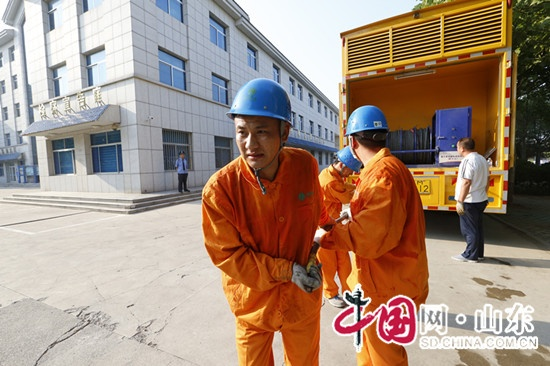blue: (228, 75, 295, 168), (344, 106, 391, 161), (330, 146, 363, 177)
none: (456, 136, 476, 158)
